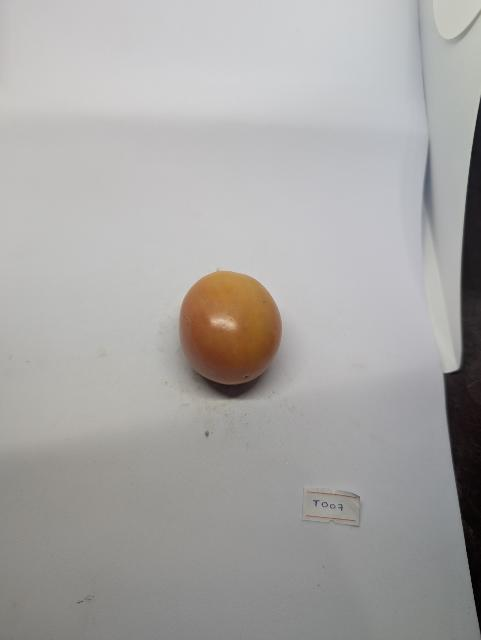turning: (171, 267, 287, 393)
